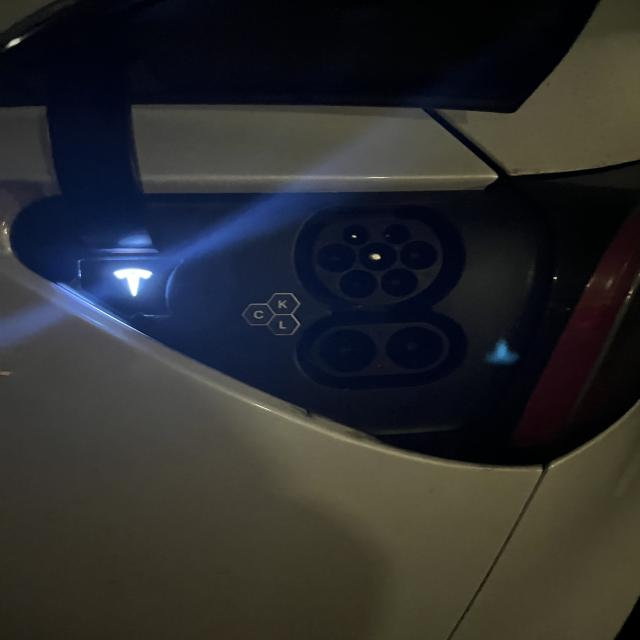inlet: (311, 218, 443, 305)
inlet-above-left: (343, 225, 371, 246)
inlet-above-right: (383, 224, 411, 244)
inlet-below-left: (339, 270, 378, 299)
inlet-below-right: (381, 268, 419, 297)
inlet-circle: (359, 241, 397, 271)
inlet-circle-left: (316, 243, 356, 272)
inlet-circle-right: (400, 240, 438, 270)
inlet-minus: (385, 327, 443, 369)
inlet-plus: (320, 329, 376, 373)
